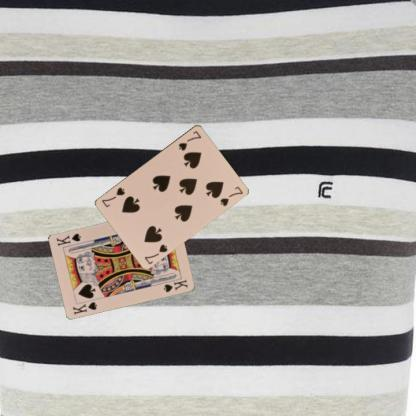7s: (142, 241, 169, 265), (176, 128, 202, 151)
Ks: (70, 299, 99, 316)
